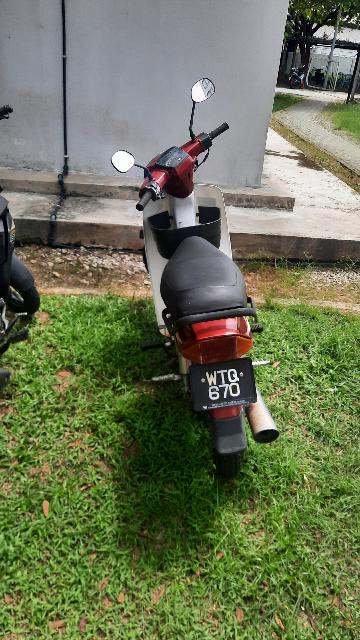License_Plate: (181, 357, 267, 413)
motorcycle: (104, 77, 308, 500)
